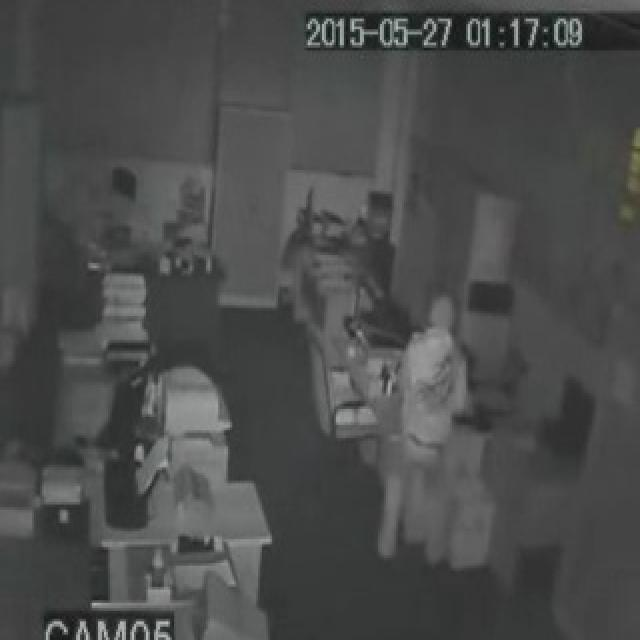thief: (390, 276, 458, 418)
